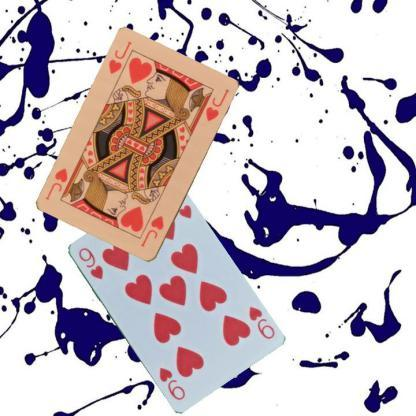9h: (246, 303, 276, 341), (75, 245, 104, 280)
Jh: (106, 38, 133, 76), (138, 214, 165, 249)
